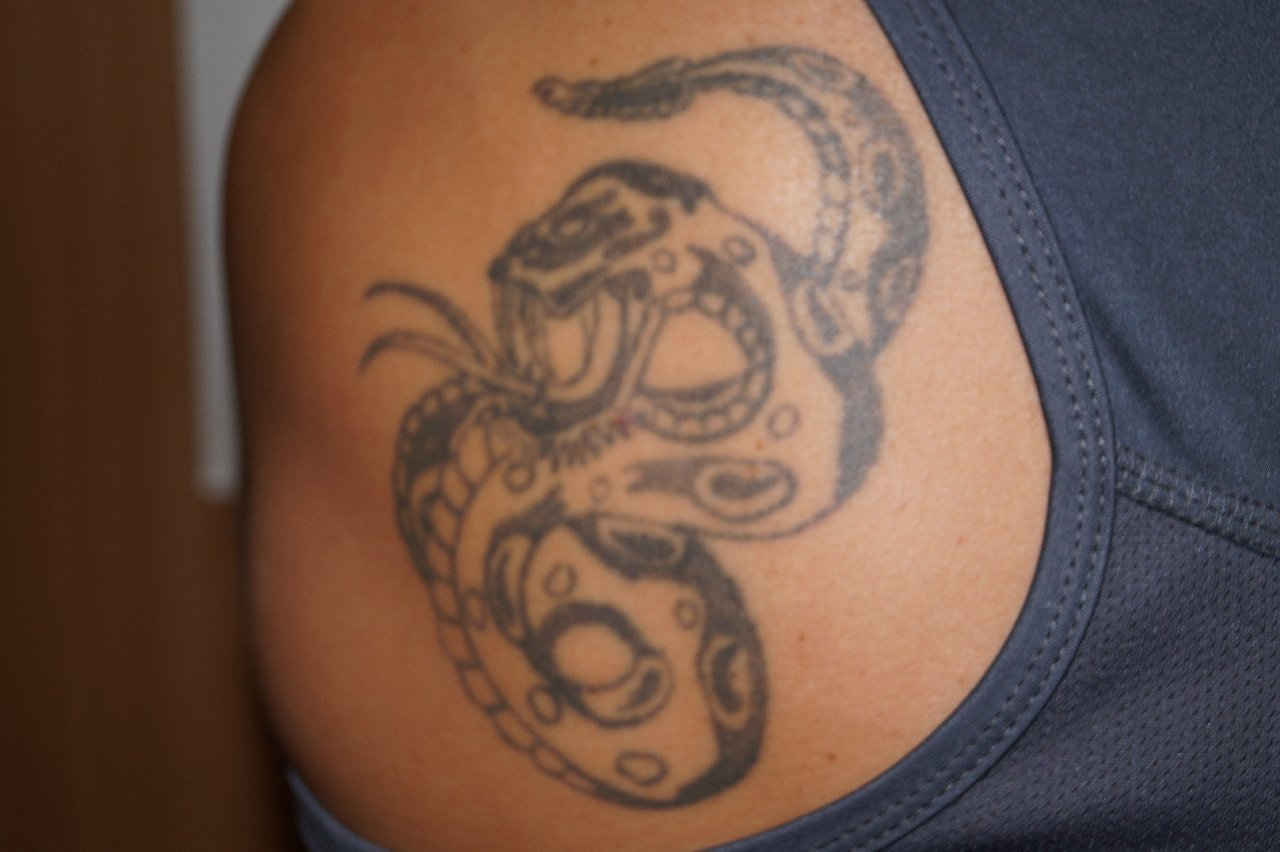tatu7_zmeya: (388, 51, 966, 769)
